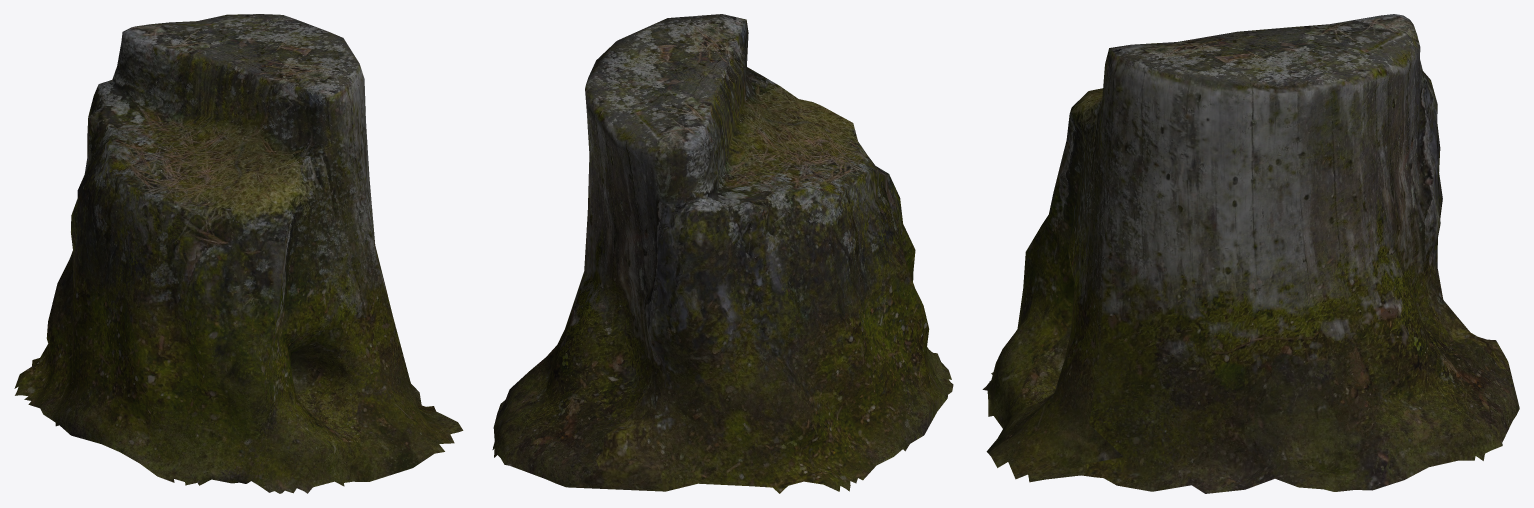
The model's file is PW_Tree_Stump_05.glb.
The picture shows the model from 3 angles, left to right: view 1: azimuth 30°, elevation 25°; view 2: azimuth 150°, elevation 25°; view 3: azimuth 270°, elevation 25°; orthographic projection. The views are drawn at different scales.
Visible parts, largest first — view 1: PW_Tree_Stump_05_LOD0; view 2: PW_Tree_Stump_05_LOD0; view 3: PW_Tree_Stump_05_LOD0.
Boxes of the visible parts, x1,y1,x2,y2 form: PW_Tree_Stump_05_LOD0: (14, 14, 463, 493); PW_Tree_Stump_05_LOD0: (492, 14, 953, 493); PW_Tree_Stump_05_LOD0: (982, 14, 1519, 493).
Size of the model in its own units: 0.8241 by 0.7931 by 0.9615.
Materials: 1 (1 with a texture image).
